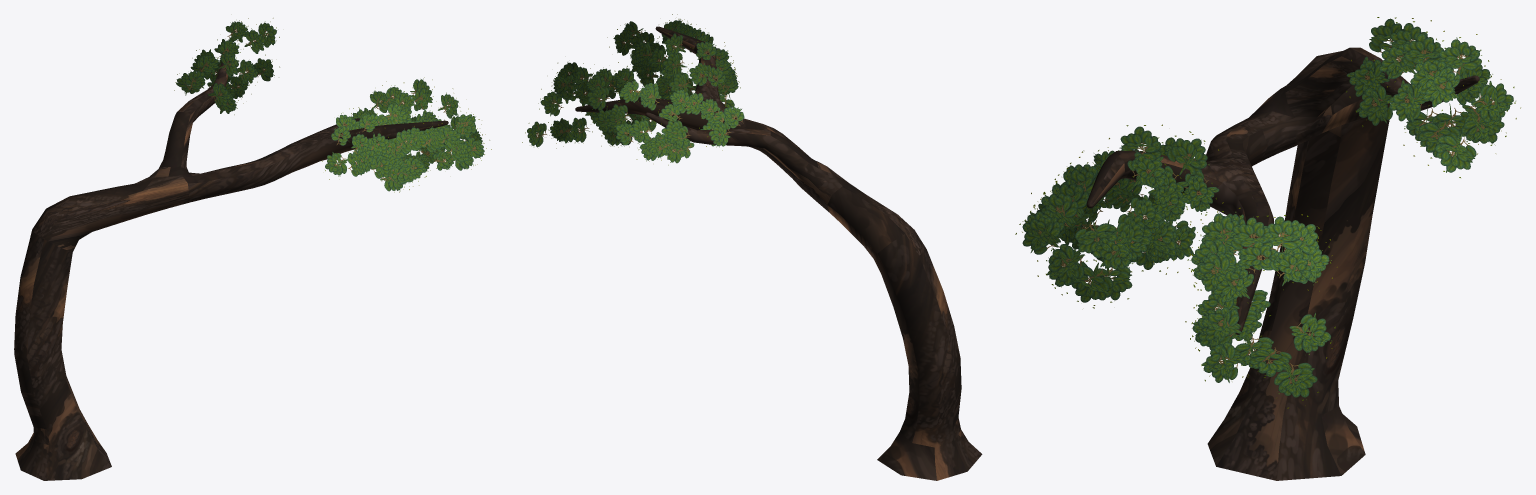
The model's file is Arvore_pequena.fbx.
3 renders of one model, left to right at view 1: azimuth 30°, elevation 25°; view 2: azimuth 150°, elevation 25°; view 3: azimuth 270°, elevation 25°, orthographic. The views are drawn at different scales.
Parts seen in each view (by area): view 1: Tronco.001, Folha.001; view 2: Tronco.001, Folha.001; view 3: Folha.001, Tronco.001.
Part boxes in pixels (x1,y1,x2,y2): Tronco.001: [14, 40, 448, 480]; Folha.001: [174, 18, 491, 192]; Tronco.001: [575, 26, 982, 480]; Folha.001: [522, 14, 744, 165]; Folha.001: [1015, 17, 1520, 408]; Tronco.001: [1086, 47, 1479, 480].
Size of the model in its own units: 1230 by 935 by 717.
